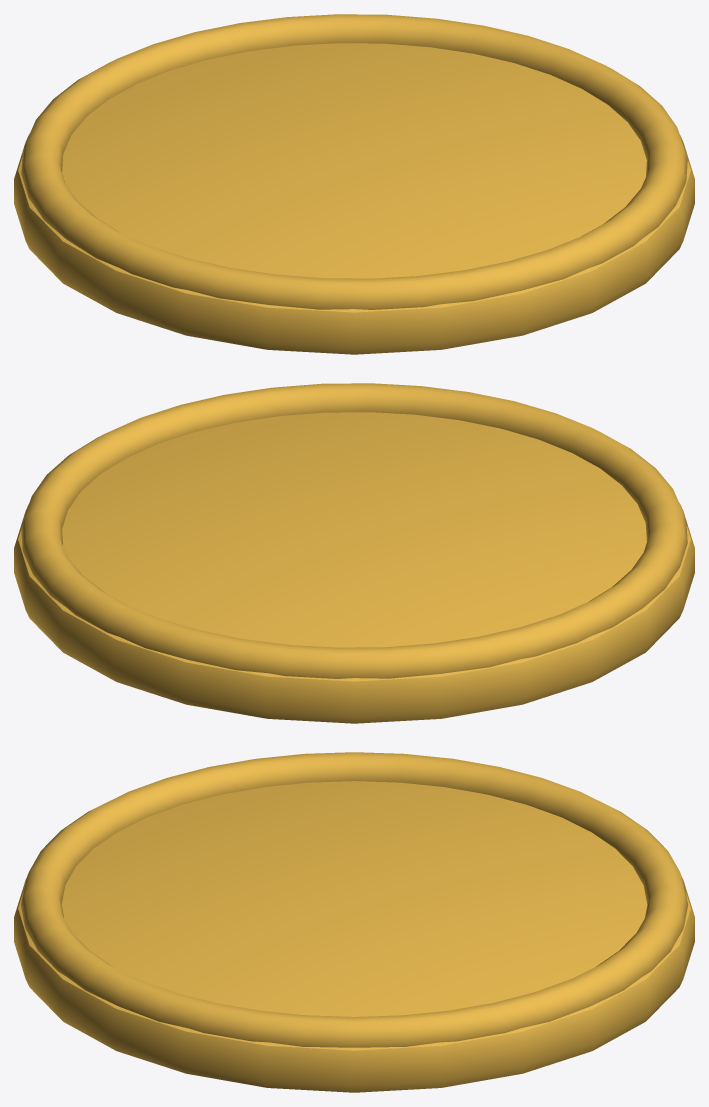
The model's file is moeda.glb.
3 views of the same model, one above another, from view 1: azimuth 30°, elevation 25°; view 2: azimuth 150°, elevation 25°; view 3: azimuth 270°, elevation 25° (orthographic).
Visible parts, largest first — view 1: Moeda; view 2: Moeda; view 3: Moeda.
Boxes of the visible parts, bbox=[...] form: Moeda: bbox=[14, 14, 694, 354]; Moeda: bbox=[14, 383, 694, 723]; Moeda: bbox=[14, 752, 694, 1092].
Bounding box in the file's own units: 0.1 × 0.0109 × 0.1.
